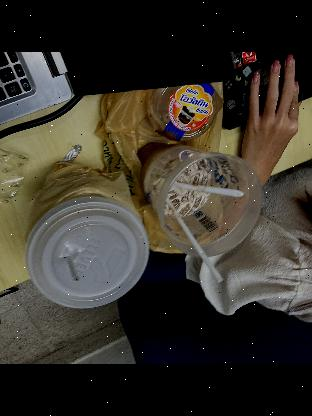Others: (98, 83, 225, 257), (131, 140, 266, 258), (24, 196, 150, 310), (26, 158, 140, 228), (161, 201, 224, 283), (145, 81, 219, 139), (153, 176, 244, 198), (0, 144, 31, 204), (55, 144, 85, 166)
